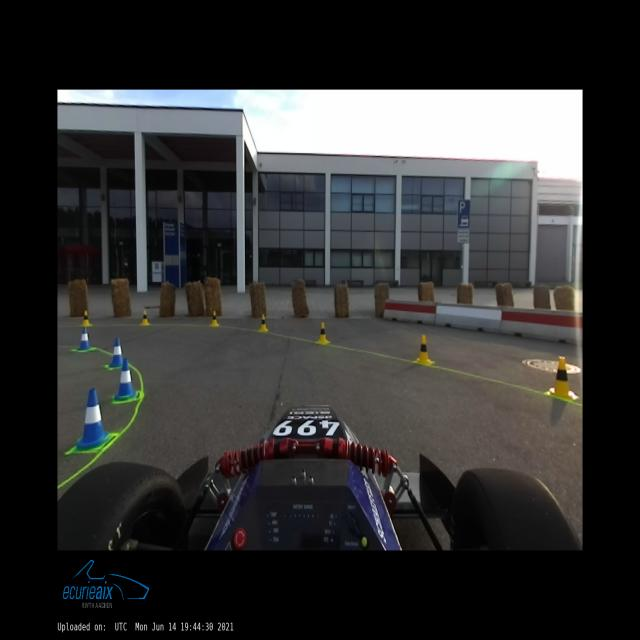blue_cone: (77, 388, 108, 448), (115, 358, 135, 400), (110, 337, 122, 367), (78, 326, 91, 350)
yellow_cone: (547, 356, 577, 400), (417, 335, 430, 362), (318, 323, 328, 343), (141, 310, 149, 325), (210, 310, 218, 325), (260, 315, 268, 330), (82, 310, 89, 326)
